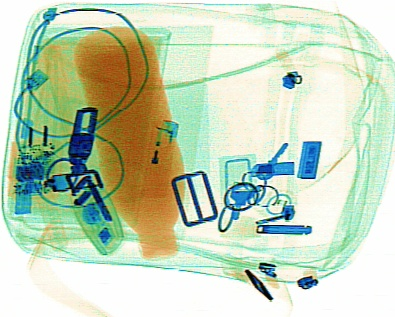lighter: (138, 115, 179, 200)
